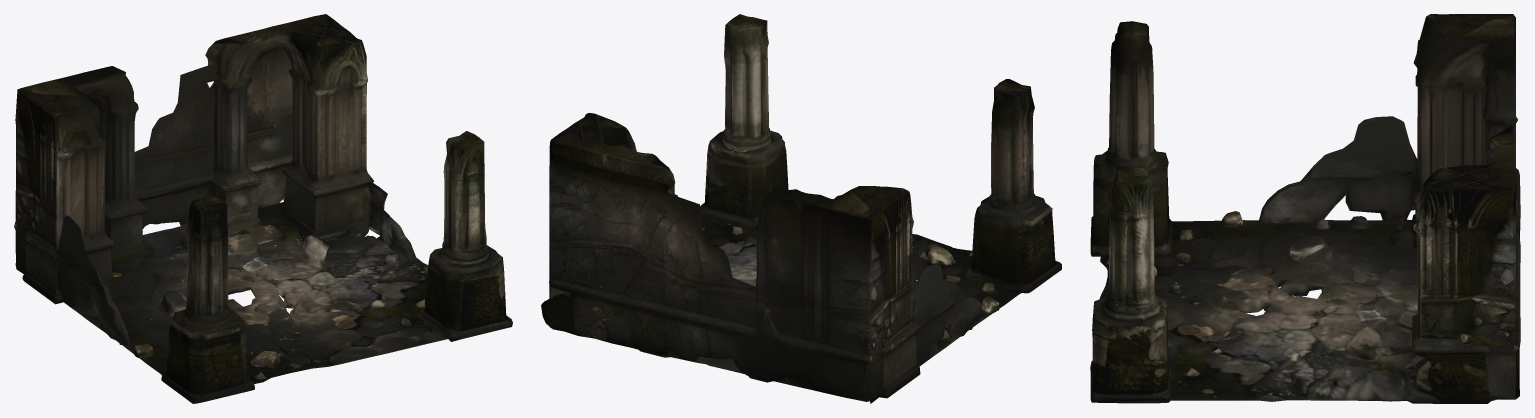
Rendered from floor.fbx.
The picture shows the model from 3 angles, left to right: view 1: azimuth 30°, elevation 25°; view 2: azimuth 150°, elevation 25°; view 3: azimuth 270°, elevation 25°; orthographic projection. The views are drawn at different scales.
Parts seen in each view (by area): view 1: tripo_node_95ee3ee9; view 2: tripo_node_95ee3ee9; view 3: tripo_node_95ee3ee9.
Part boxes in pixels (x1=…): tripo_node_95ee3ee9: x1=14, y1=14, x2=512, y2=403; tripo_node_95ee3ee9: x1=541, y1=14, x2=1061, y2=403; tripo_node_95ee3ee9: x1=1090, y1=14, x2=1520, y2=403.
Bounding box in the file's own units: 1 × 0.5634 × 0.9964.
1 material, 1 textured.
